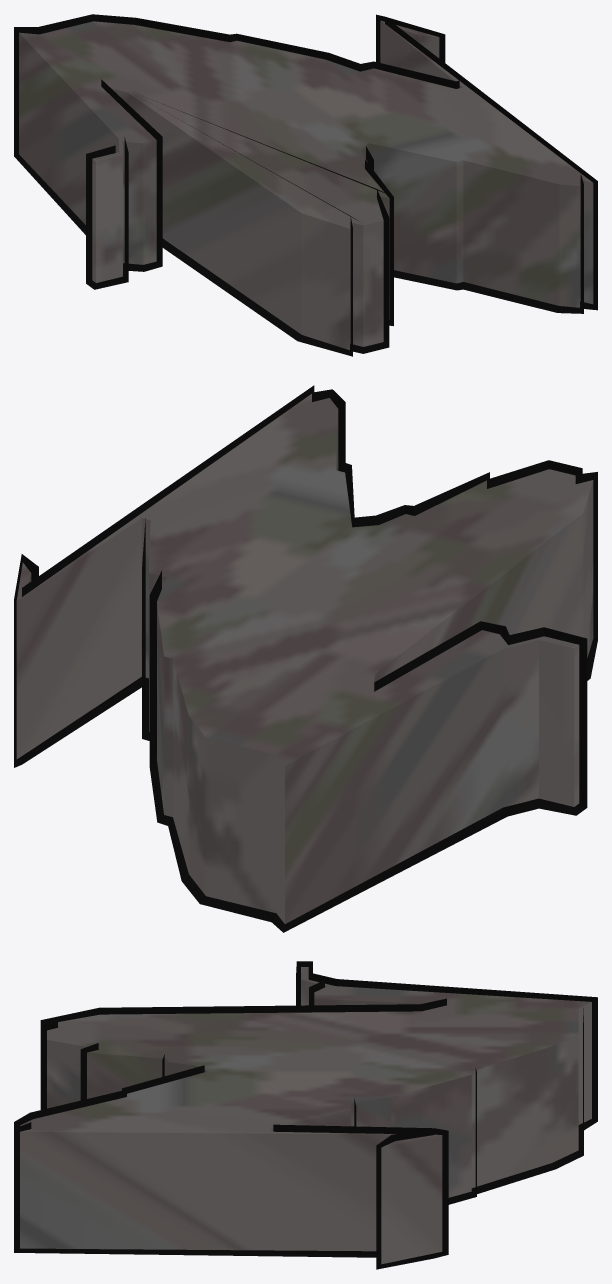
Rendered from Building_FloorEtchingRambling_Things_Filth_FloorEtchings_FloorEtchingJ.glb.
3 renders of one model, top to bottom at view 1: azimuth 30°, elevation 25°; view 2: azimuth 150°, elevation 25°; view 3: azimuth 270°, elevation 25°, orthographic. The views are drawn at different scales.
Parts seen in each view (by area): view 1: Body, Outline; view 2: Body, Outline; view 3: Body, Outline.
Part boxes in pixels (x1,y1,x2,y2): Body: [19, 20, 593, 350]; Outline: [14, 14, 597, 356]; Body: [16, 394, 593, 923]; Outline: [14, 385, 597, 932]; Body: [20, 967, 591, 1264]; Outline: [14, 961, 597, 1269].
Bounding box in the file's own units: 0.9076 × 0.2998 × 1.22.
2 materials, 1 textured.
